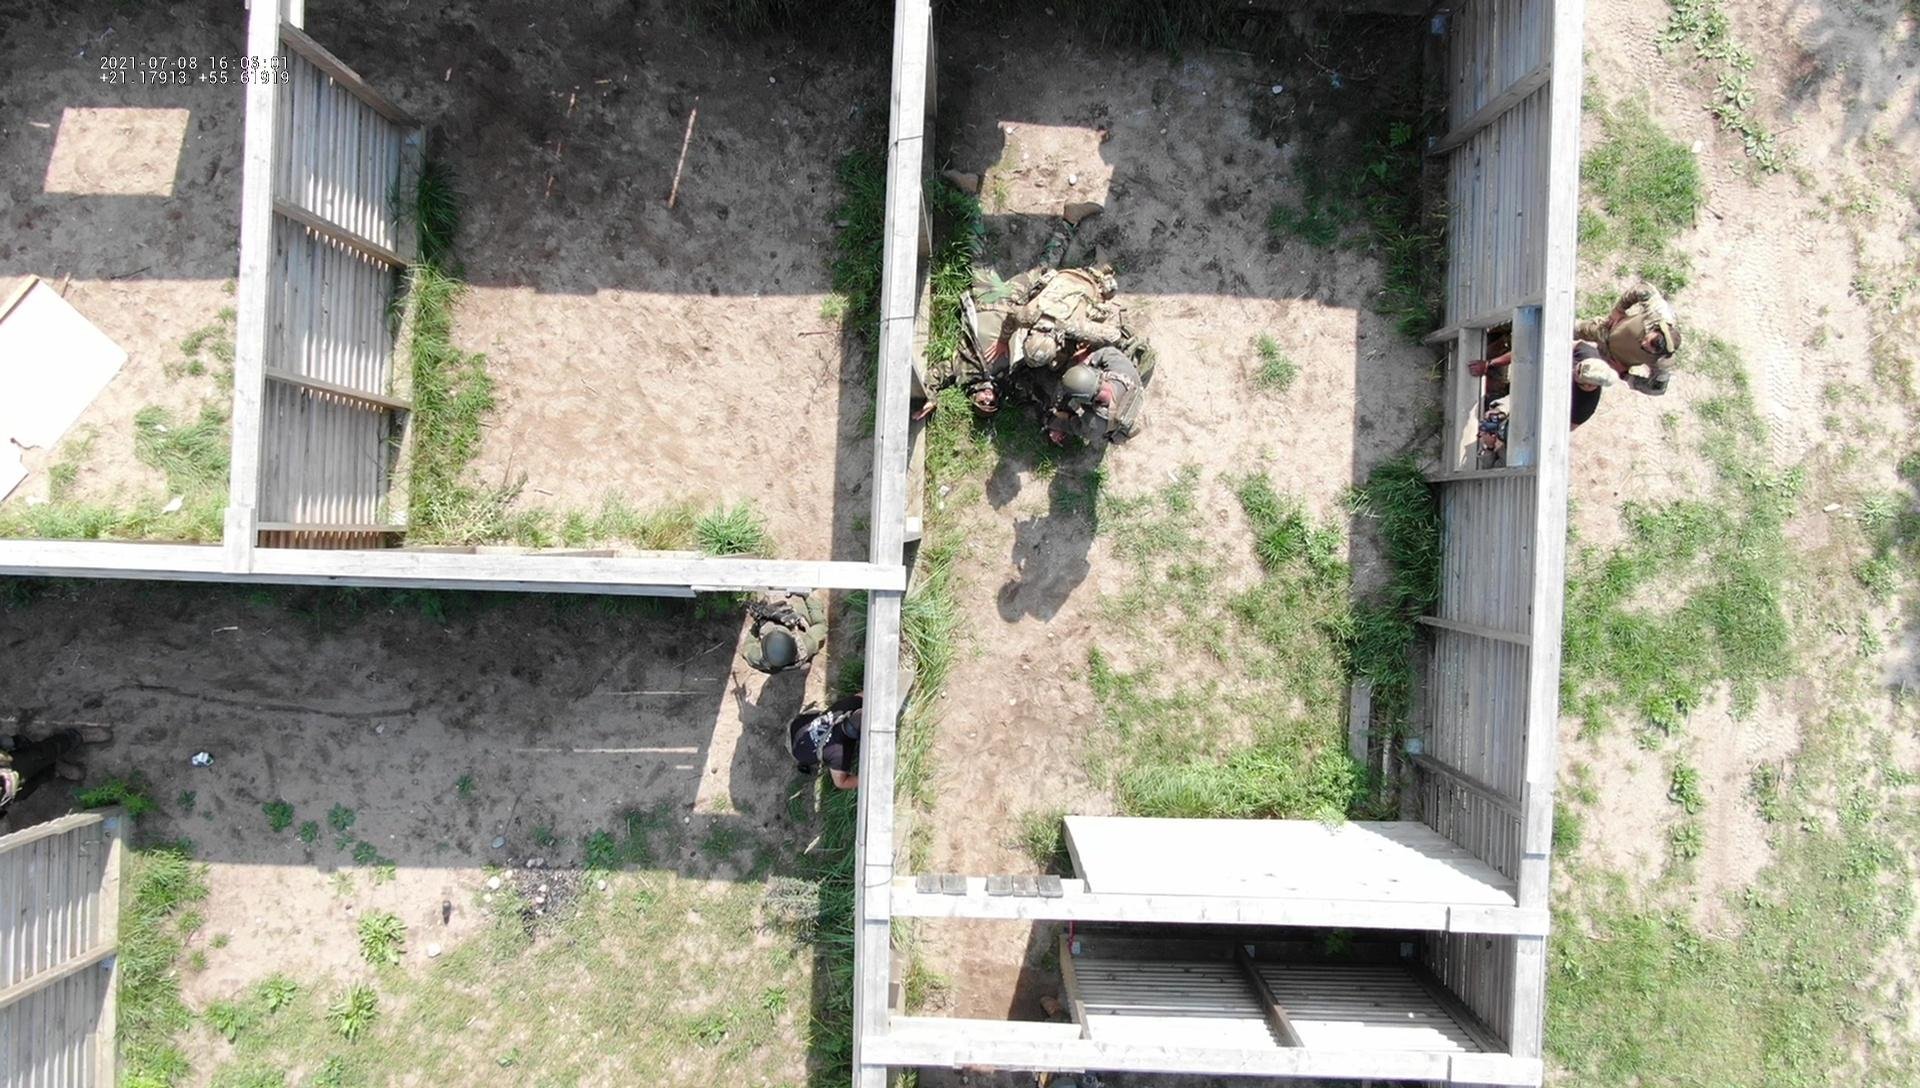Soldier: (919, 189, 1040, 408), (1015, 256, 1127, 378), (1050, 344, 1151, 452), (738, 587, 851, 684), (1592, 295, 1680, 397)
